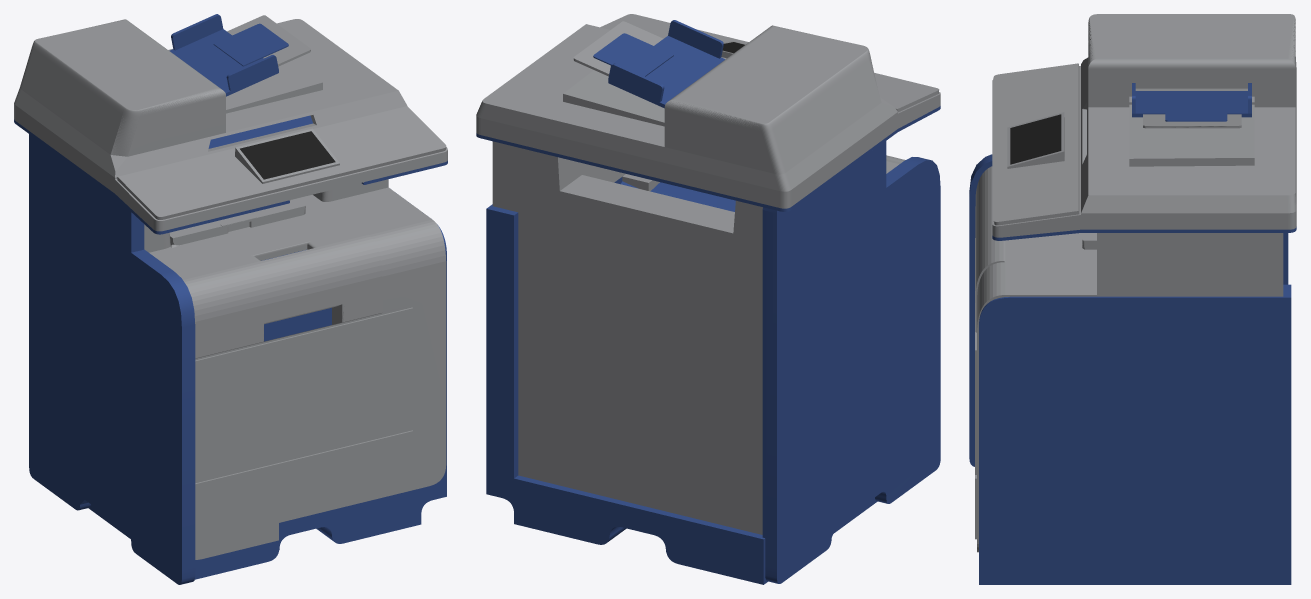
3 views of the same model, side by side, from view 1: azimuth 30°, elevation 25°; view 2: azimuth 150°, elevation 25°; view 3: azimuth 270°, elevation 25° (orthographic). The views are drawn at different scales.
Parts seen in each view (by area): view 1: Box2296; view 2: Box2296; view 3: Box2296.
Boxes of the visible parts, x1=… form: Box2296: x1=14, y1=14, x2=447, y2=584; Box2296: x1=476, y1=14, x2=940, y2=584; Box2296: x1=969, y1=14, x2=1296, y2=584.
Size of the model in its own units: 0.7484 by 1.06 by 0.6936.
